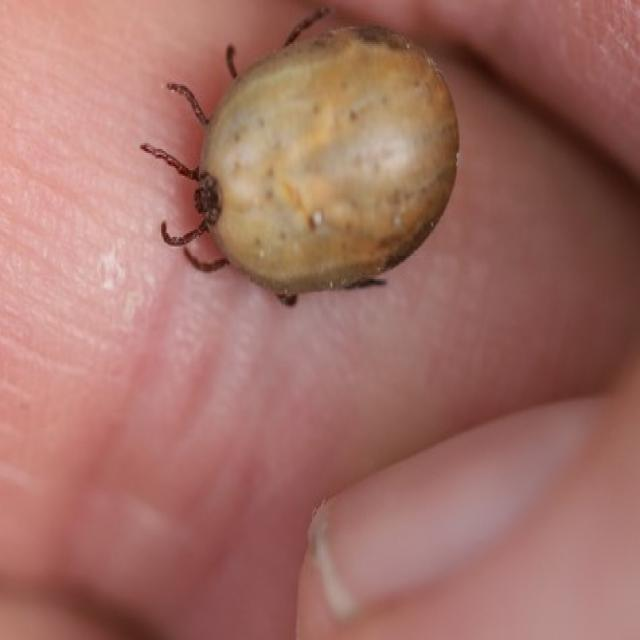Dermacentor Reticulatus-F-Fed: (138, 8, 458, 308)
